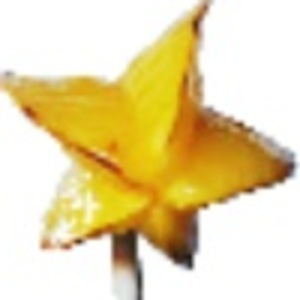carambola: (1, 1, 297, 289)
